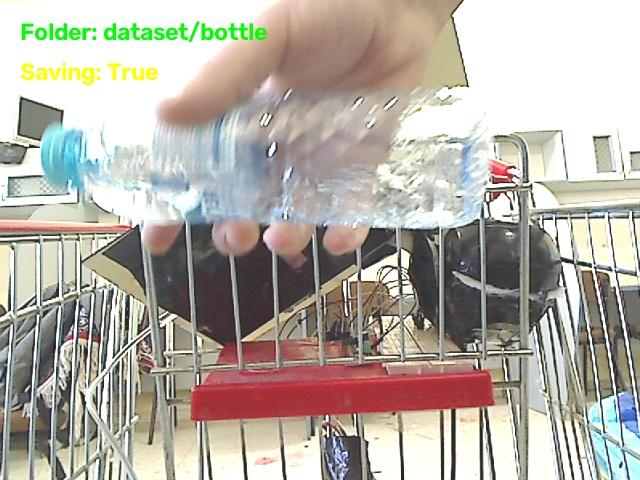Bottle: (42, 88, 489, 228)
